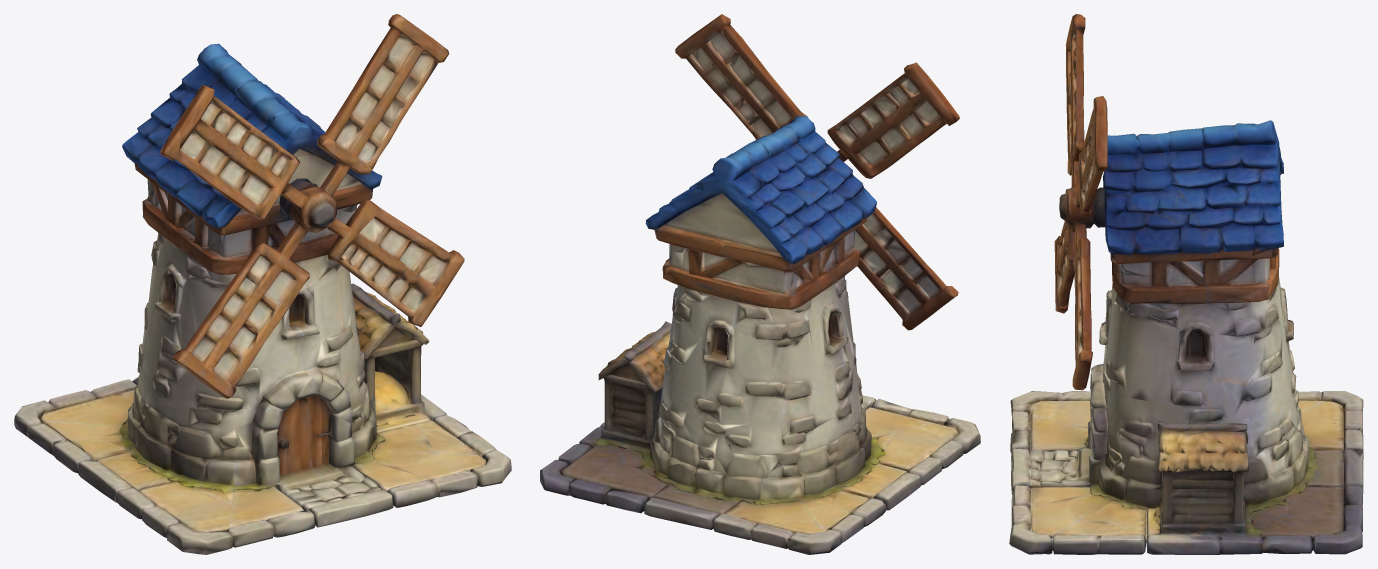
Rendered from windmill-low.glb.
3 views of the same model, side by side, from view 1: azimuth 30°, elevation 25°; view 2: azimuth 150°, elevation 25°; view 3: azimuth 270°, elevation 25° (orthographic). The views are drawn at different scales.
Visible parts, largest first — view 1: tripo_node_c4f8d6cc-7c40-4174-ace1-59bc56e6c0d0; view 2: tripo_node_c4f8d6cc-7c40-4174-ace1-59bc56e6c0d0; view 3: tripo_node_c4f8d6cc-7c40-4174-ace1-59bc56e6c0d0.
Part boxes in pixels (left/top/right/bottom): tripo_node_c4f8d6cc-7c40-4174-ace1-59bc56e6c0d0: left=14, top=14, right=511, bottom=554; tripo_node_c4f8d6cc-7c40-4174-ace1-59bc56e6c0d0: left=540, top=14, right=980, bottom=554; tripo_node_c4f8d6cc-7c40-4174-ace1-59bc56e6c0d0: left=1009, top=14, right=1363, bottom=554.
Size of the model in its own units: 0.771 by 0.9992 by 0.7575.
1 material, 1 textured.
